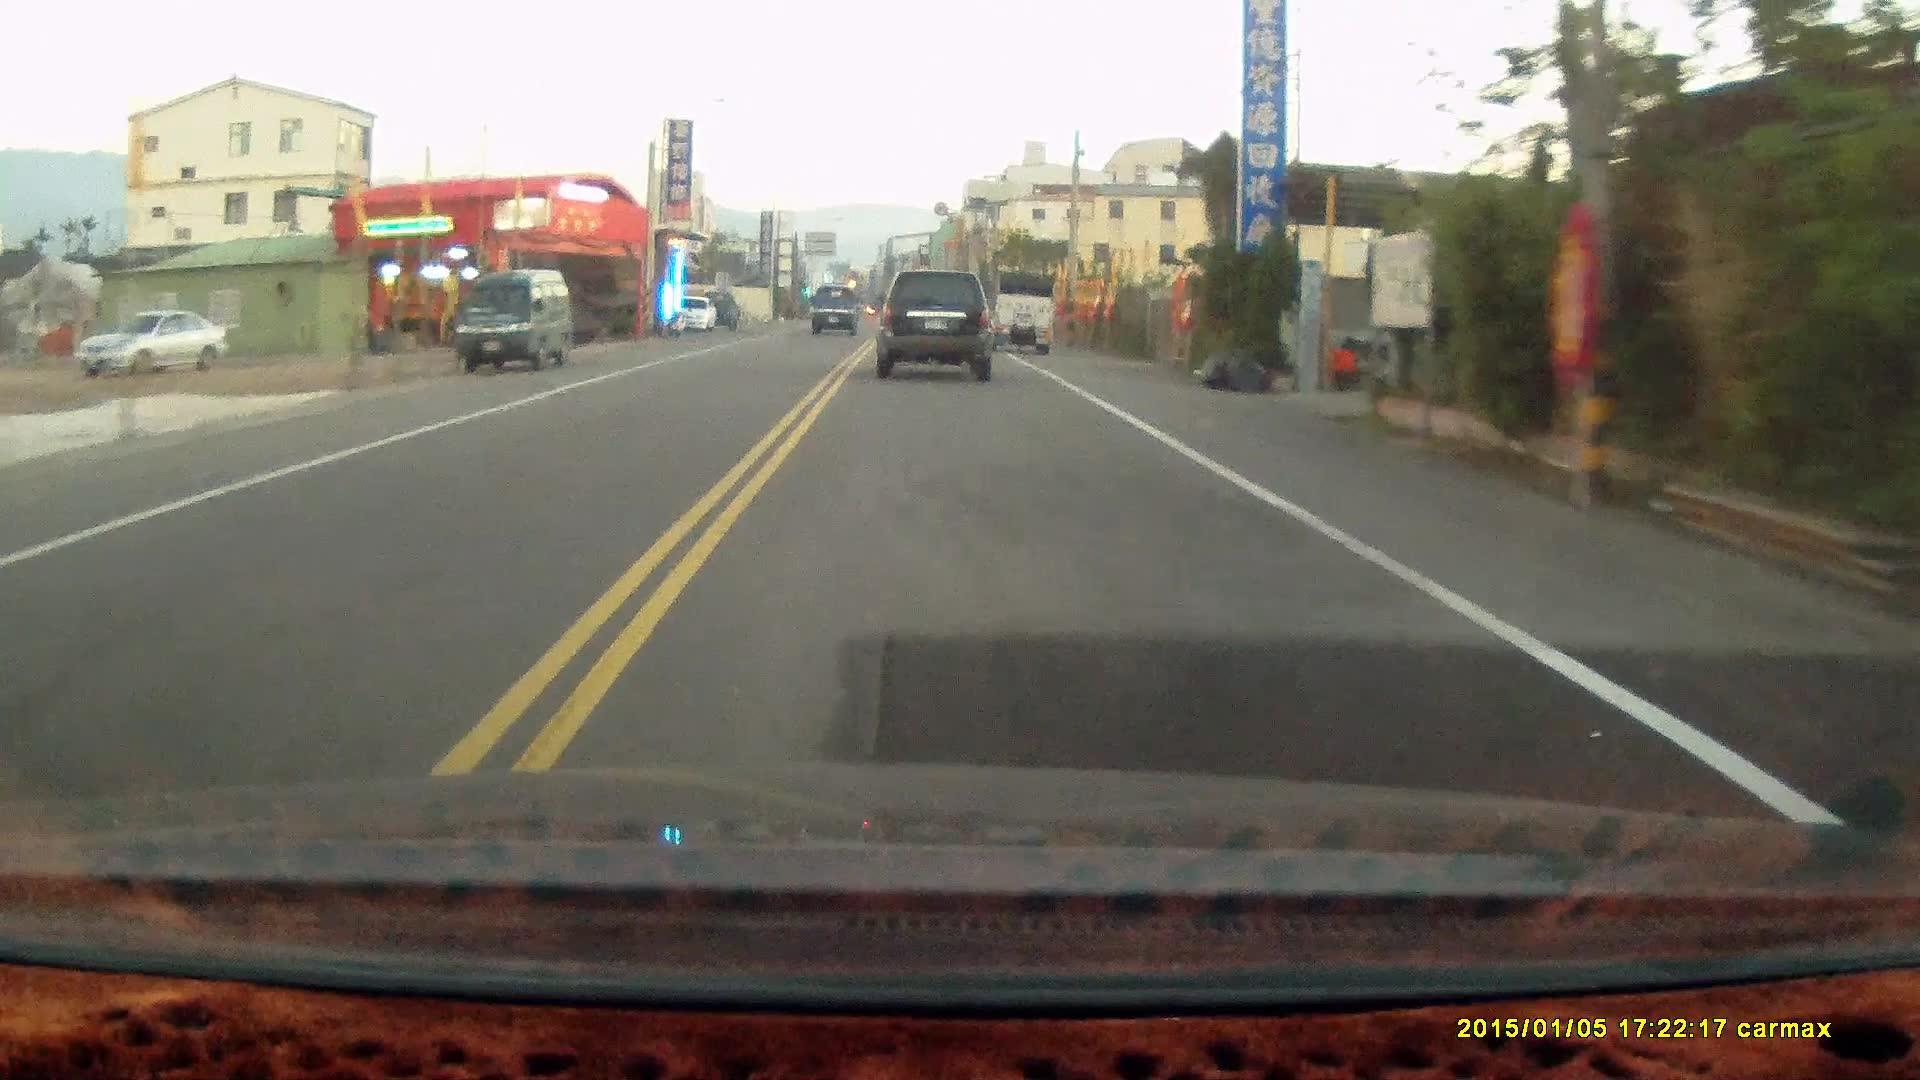vehicle: (869, 266, 1004, 386), (452, 265, 571, 376), (73, 307, 231, 381), (978, 272, 1058, 357), (808, 285, 862, 336)
